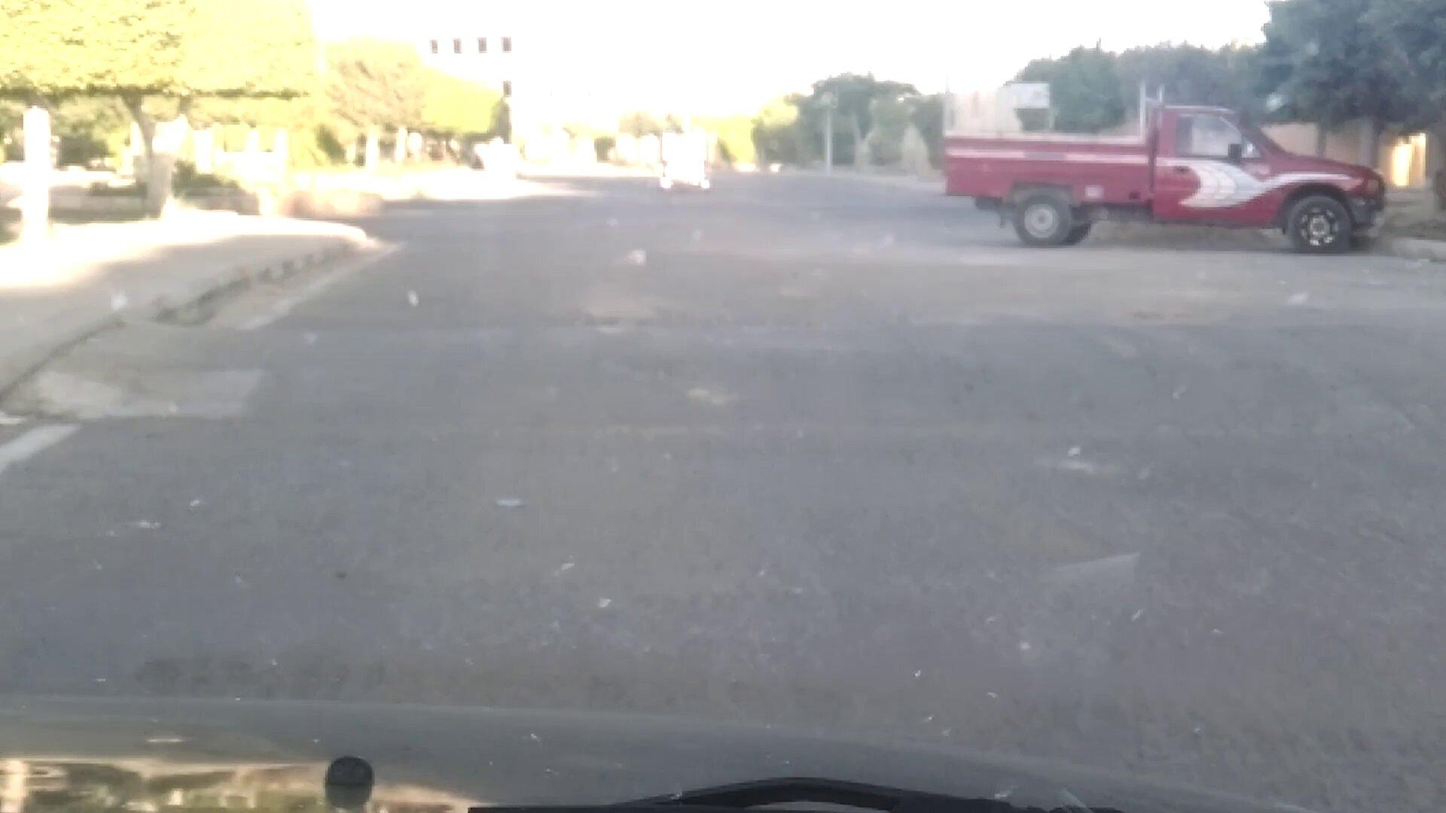Bump: (105, 299, 1446, 452)
